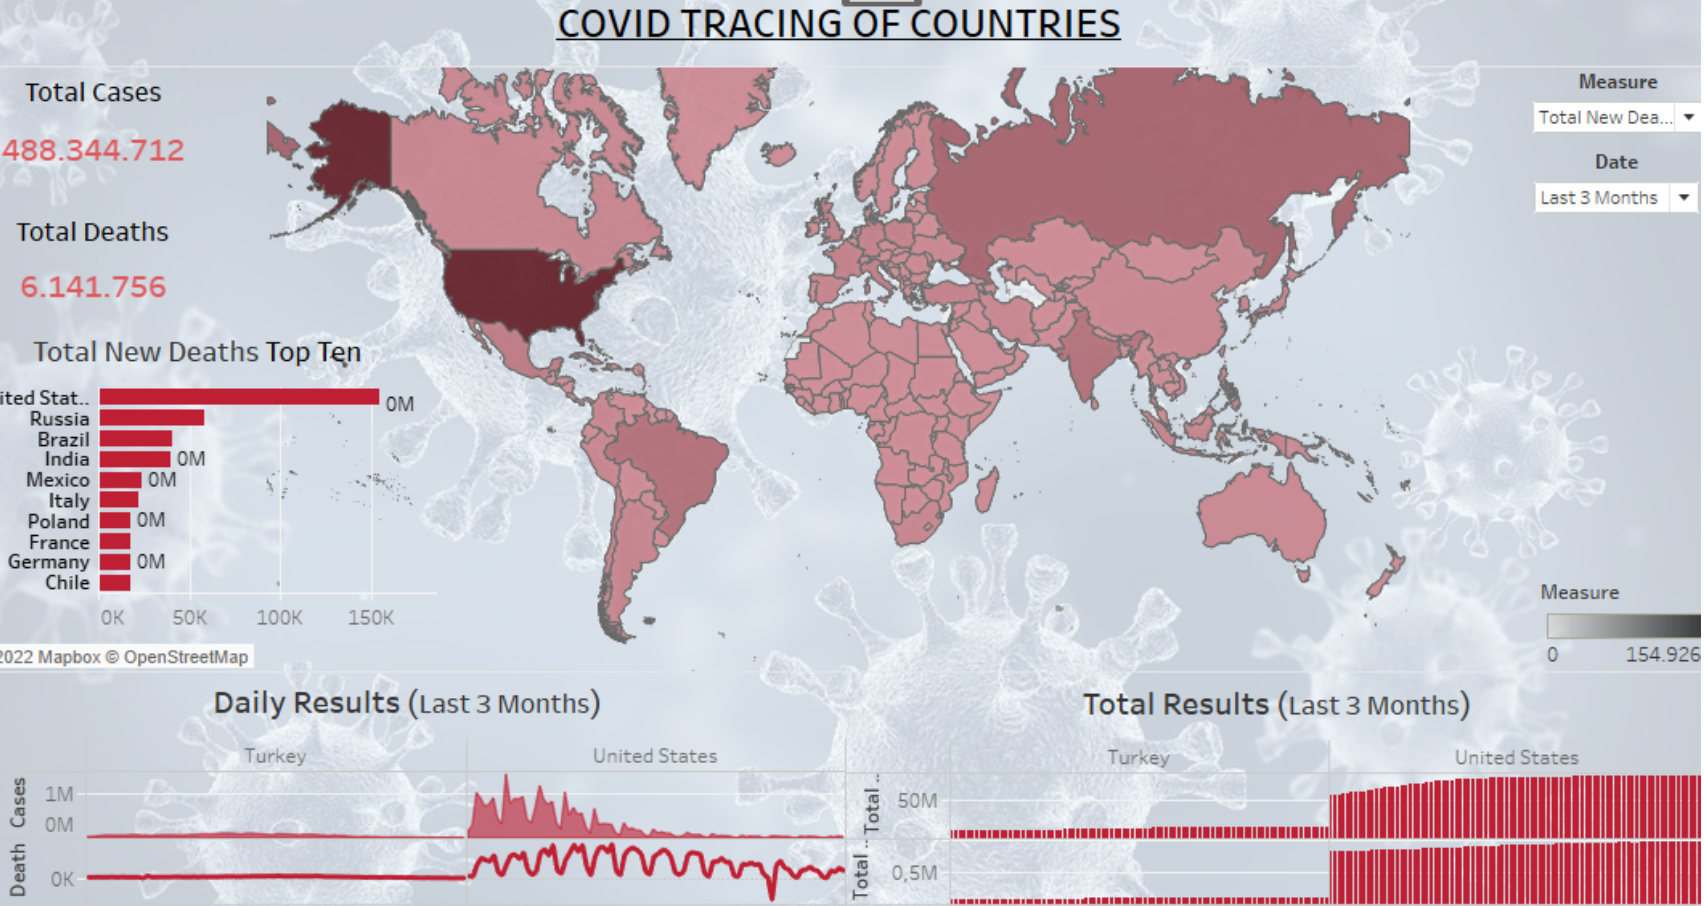

Layout of this report page (visuals, bound fields, positions):
{"tool":"tableau","page":{"name":"Dashboard 3","canvas":[1000,1000],"units":"permille","ordinal":2},"visuals":[{"type":"image","param":"Image/covid19._4png (1).png","box":[5,9.8,990,980.4]},{"type":"worksheet","title":"MAP_color","mark":"Automatic","box":[7.8,13.5,938.7,719.6]},{"type":"worksheet","title":"info","mark":"Shape","cols":["Calculation_1060316259447742465"],"box":[916.9,42.2,30.3,52.4]},{"type":"parameter","param":"[Parameters].[Parameter 4]","box":[847.1,96.3,97.6,79.4]},{"type":"worksheet","title":"Total_Pos_Case","mark":"Automatic","box":[6.9,96.6,169.6,107.6]},{"type":"parameter","param":"[Parameters].[Parameter 3]","box":[848,180.7,94.1,79.4]},{"type":"worksheet","title":"Total_Death_2","mark":"Automatic","box":[6.9,231.1,132.8,105.1]},{"type":"worksheet","title":"Top_Ten","mark":"Automatic","rows":["country_short_name"],"cols":["Calculation_1326521217691525126"],"box":[9.5,366.6,251.3,332.8]},{"type":"legend","title":"MAP_color","param":"[federated.10m1s8q1e9dhwn15innzv14vp22z].[usr:Calculation_1326521217691525126:qk","box":[854.1,633.5,90.7,96.3]},{"type":"worksheet","title":"Daily Results","mark":"Automatic","rows":["Calculation_1326521217649917955","people_positive_new_cases_count","people_death_new_count"],"cols":["country_short_name","report_date"],"box":[7.8,733.1,474.1,244.9]},{"type":"worksheet","title":"Total Results","mark":"Bar","rows":["people_positive_cases_count","people_death_count"],"cols":["country_short_name","report_date"],"box":[481,734.8,462.9,243.2]}]}

Visuals, with their boxes on the dashboard's canvas, which has no fixed pixel size, in thousandths of its width and height (x1, y1, x2, y2). These are canvas units, not pixel positions in the 1704x906 screenshot, which may show the page scaled, cropped or inside an application window:
image: BBox(5, 10, 995, 990)
"MAP_color" worksheet: BBox(8, 14, 946, 733)
"info" worksheet (Shape marks): BBox(917, 42, 947, 95)
parameter: BBox(847, 96, 945, 176)
"Total_Pos_Case" worksheet: BBox(7, 97, 176, 204)
parameter: BBox(848, 181, 942, 260)
"Total_Death_2" worksheet: BBox(7, 231, 140, 336)
"Top_Ten" worksheet: BBox(10, 367, 261, 699)
"MAP_color" legend: BBox(854, 634, 945, 730)
"Daily Results" worksheet: BBox(8, 733, 482, 978)
"Total Results" worksheet (Bar marks): BBox(481, 735, 944, 978)
